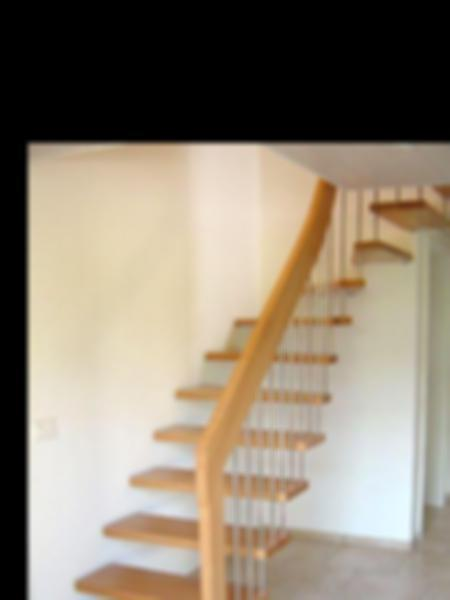Escaleras: (44, 180, 369, 600)
